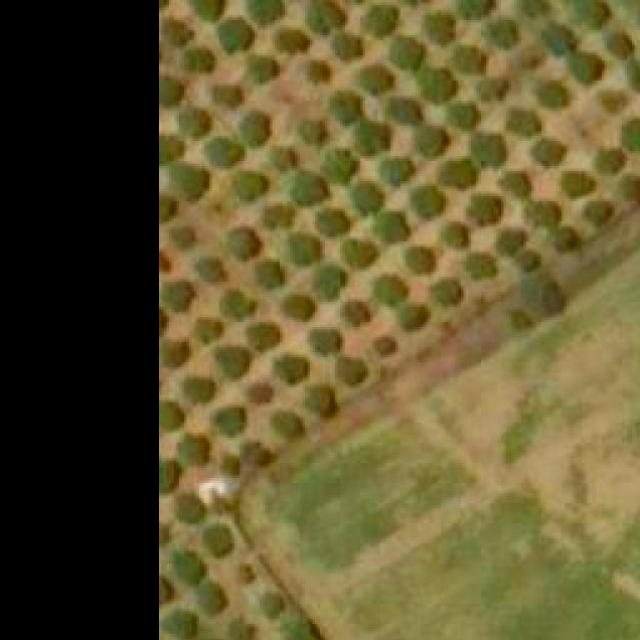Tree: (520, 267, 567, 317), (171, 164, 211, 199), (325, 151, 360, 184), (418, 70, 456, 100), (348, 237, 382, 270), (185, 372, 222, 402), (205, 139, 242, 169), (362, 3, 398, 33), (408, 188, 446, 216), (287, 234, 322, 264), (244, 0, 285, 25), (282, 609, 315, 640), (394, 38, 428, 68), (362, 66, 396, 96), (220, 20, 254, 50), (455, 46, 488, 76), (473, 134, 506, 164), (297, 171, 327, 204), (317, 267, 347, 300), (272, 410, 305, 440), (309, 0, 342, 30), (236, 171, 266, 204), (275, 354, 310, 382), (544, 26, 576, 56), (220, 348, 250, 380), (242, 56, 276, 84), (178, 438, 211, 466), (491, 18, 521, 48), (512, 109, 542, 139), (171, 609, 201, 639), (242, 114, 272, 144), (179, 109, 209, 139), (576, 0, 608, 28), (307, 330, 342, 355), (560, 171, 594, 196), (428, 10, 456, 40), (538, 139, 566, 169), (382, 156, 412, 184), (358, 126, 388, 154), (332, 94, 360, 124), (402, 304, 432, 332), (256, 260, 284, 290), (230, 232, 258, 262), (174, 550, 204, 578), (574, 56, 604, 84), (468, 252, 498, 280), (164, 17, 194, 45), (459, 0, 496, 22), (481, 75, 509, 104), (220, 408, 248, 436), (337, 33, 365, 61), (532, 204, 562, 230), (205, 528, 232, 556), (418, 129, 448, 154), (252, 322, 282, 347), (224, 292, 254, 317), (307, 386, 332, 416), (392, 98, 420, 124), (196, 317, 222, 345), (556, 226, 584, 252), (307, 58, 335, 84), (277, 28, 305, 54), (587, 202, 617, 226), (186, 46, 216, 70), (378, 277, 406, 302), (287, 294, 312, 322), (169, 282, 194, 310), (176, 496, 204, 521), (597, 149, 625, 174), (443, 161, 473, 184), (272, 146, 302, 169), (340, 361, 370, 384), (380, 214, 406, 240), (451, 104, 479, 128), (443, 224, 468, 250), (602, 88, 627, 114), (536, 86, 568, 106), (161, 342, 186, 367), (200, 586, 224, 612), (232, 562, 256, 588), (358, 184, 382, 209), (473, 200, 503, 220), (194, 0, 224, 20), (161, 402, 184, 428), (505, 171, 528, 196), (304, 119, 327, 144), (438, 280, 463, 303), (345, 302, 370, 325), (270, 205, 295, 228), (412, 250, 438, 272), (216, 84, 242, 106), (242, 441, 266, 464), (161, 76, 184, 100), (320, 212, 345, 234), (622, 119, 640, 149), (520, 250, 544, 272), (511, 310, 532, 335), (262, 592, 284, 615), (609, 34, 632, 56), (522, 0, 550, 18), (622, 173, 640, 201), (197, 262, 224, 280), (156, 576, 171, 608), (500, 232, 523, 252), (232, 621, 255, 640), (161, 200, 179, 224), (252, 382, 272, 402), (627, 60, 640, 90), (161, 463, 176, 488), (161, 136, 176, 161), (376, 337, 394, 355), (176, 228, 194, 246), (225, 458, 242, 476)
